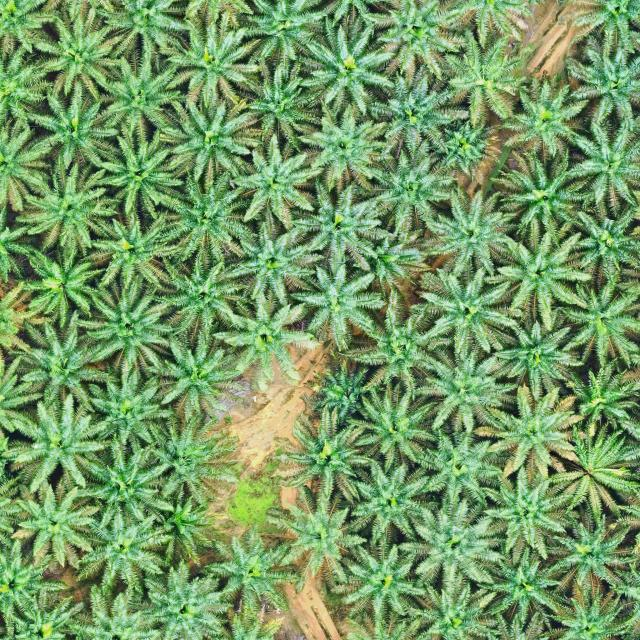Tree: (144, 159, 264, 279), (338, 287, 456, 402), (0, 307, 125, 414), (485, 218, 597, 334), (210, 286, 324, 391), (0, 389, 109, 498), (396, 492, 510, 593), (409, 338, 522, 438), (137, 406, 245, 509), (477, 302, 587, 403), (285, 92, 399, 189), (298, 13, 403, 118), (228, 55, 334, 158), (408, 262, 520, 359), (537, 421, 640, 525), (290, 177, 397, 276), (471, 386, 579, 484), (72, 438, 180, 535), (154, 92, 258, 192), (415, 181, 521, 279), (163, 9, 265, 110), (286, 261, 396, 354), (271, 412, 372, 512), (70, 278, 173, 376), (361, 138, 460, 238), (2, 476, 100, 576), (15, 158, 117, 254), (368, 61, 464, 161), (275, 485, 370, 585), (438, 24, 530, 127), (21, 76, 124, 168), (83, 124, 180, 220), (222, 220, 330, 306), (407, 426, 509, 517), (220, 141, 322, 232), (491, 147, 587, 243), (346, 456, 446, 548), (360, 0, 472, 82), (72, 506, 176, 594), (479, 462, 572, 560), (204, 524, 305, 614), (324, 539, 432, 623), (86, 206, 185, 297), (145, 326, 244, 417), (551, 268, 640, 369), (31, 8, 123, 105), (92, 46, 185, 141), (154, 260, 252, 349), (496, 69, 592, 158), (558, 28, 640, 132), (140, 554, 237, 640), (478, 543, 578, 624), (549, 512, 640, 600), (6, 243, 104, 323), (84, 366, 175, 451), (557, 352, 640, 443), (138, 488, 234, 566), (349, 386, 437, 468), (570, 117, 640, 216), (348, 220, 438, 296), (567, 199, 640, 290), (94, 0, 193, 67), (64, 580, 167, 640), (428, 110, 506, 188), (407, 578, 501, 640), (245, 0, 328, 67), (306, 358, 382, 426), (542, 585, 630, 640), (0, 121, 52, 212), (4, 583, 86, 640)
